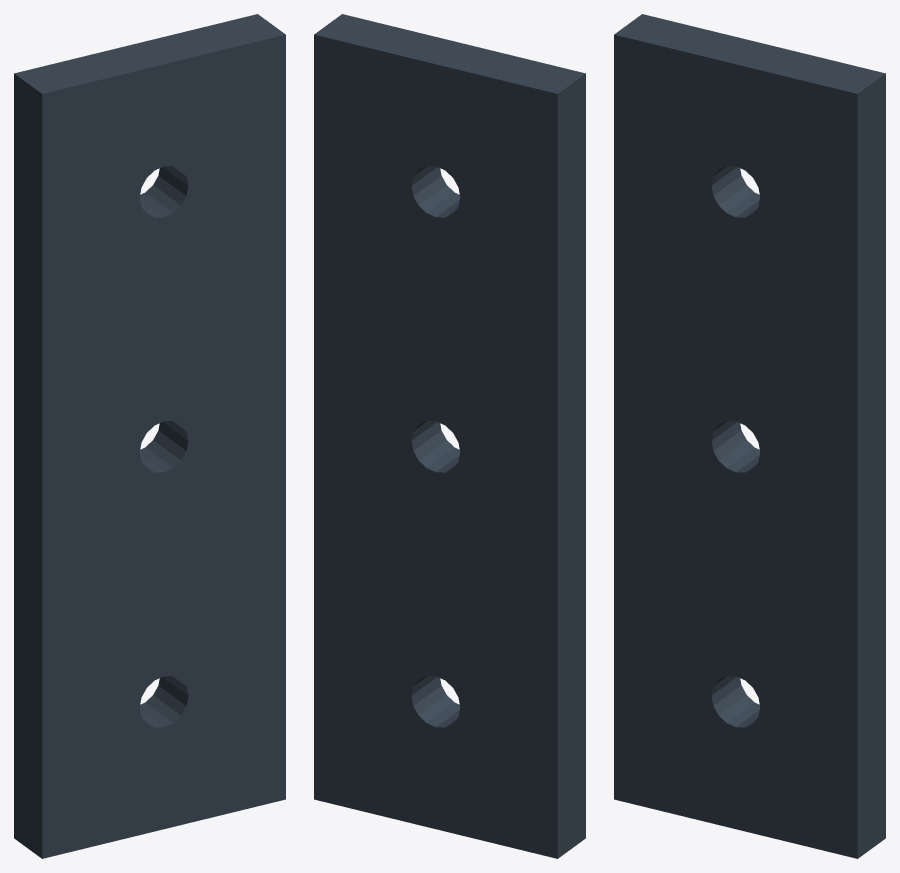
Rendered from kit_beam_60.obj.
The picture shows the model from 3 angles, left to right: view 1: azimuth 30°, elevation 25°; view 2: azimuth 150°, elevation 25°; view 3: azimuth 330°, elevation 25°; orthographic projection.
Parts seen in each view (by area): view 1: kit_beam_60; view 2: kit_beam_60; view 3: kit_beam_60.
Part boxes in pixels (box(x1,y1,x2,y2)): kit_beam_60: box(14, 14, 285, 858); kit_beam_60: box(314, 14, 585, 858); kit_beam_60: box(614, 14, 885, 858).
Bounding box in the file's own units: 0.02 × 0.06 × 0.004.
